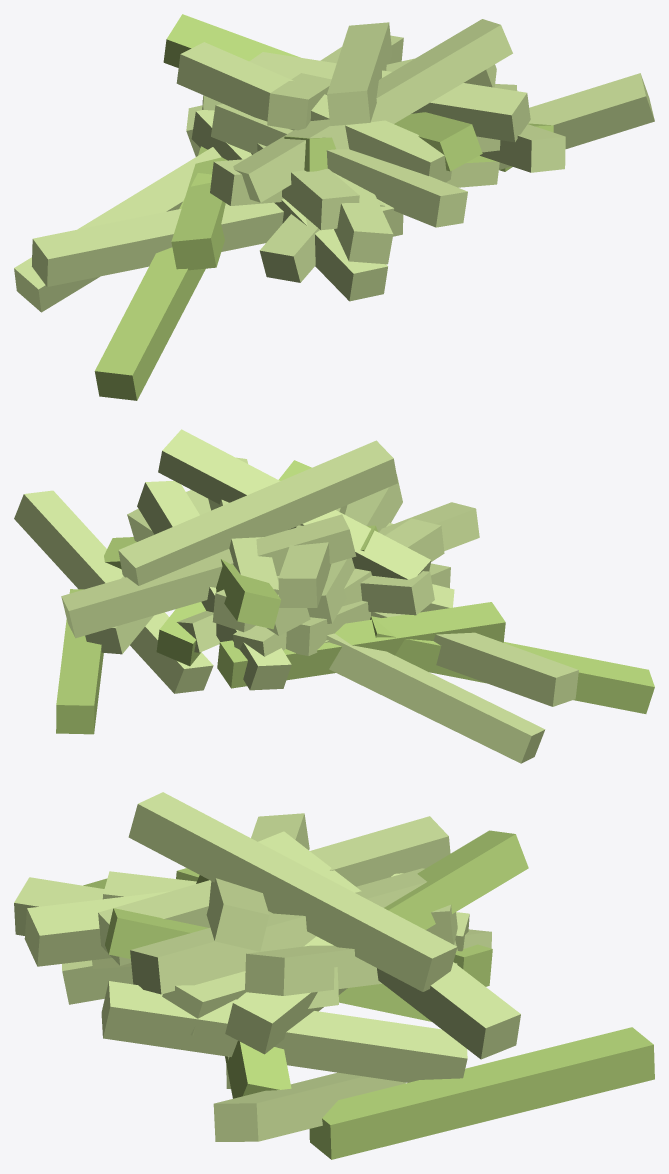
The model's file is papaya_shred.glb.
3 views of the same model, one above another, from view 1: azimuth 30°, elevation 25°; view 2: azimuth 150°, elevation 25°; view 3: azimuth 270°, elevation 25° (orthographic). The views are drawn at different scales.
Parts seen in each view (by area): view 1: papaya_shred; view 2: papaya_shred; view 3: papaya_shred.
Part boxes in pixels (bbox=[...]): papaya_shred: bbox=[14, 14, 654, 400]; papaya_shred: bbox=[14, 429, 654, 763]; papaya_shred: bbox=[14, 792, 654, 1159].
Bounding box in the file's own units: 0.3883 × 0.1386 × 0.2992.
